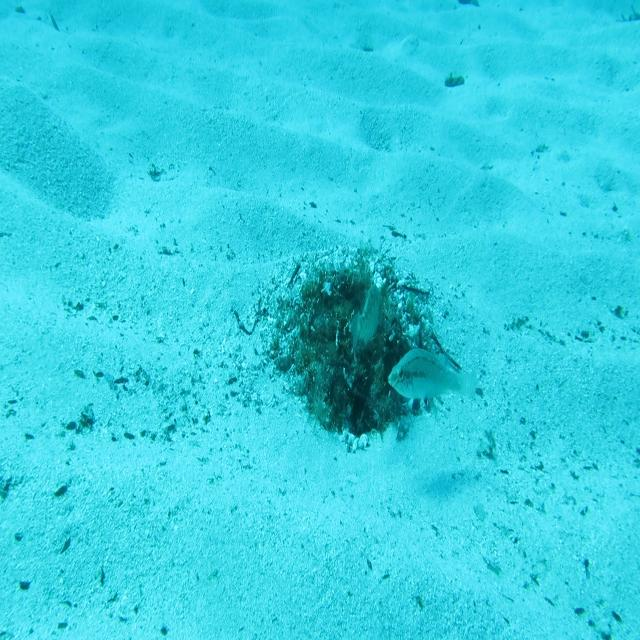NIP_CORE: (346, 279, 387, 359)
core_nest: (328, 283, 370, 335)
female: (387, 342, 480, 411)
nest: (252, 227, 457, 462)
vegetation: (444, 74, 464, 89), (454, 0, 481, 9)
